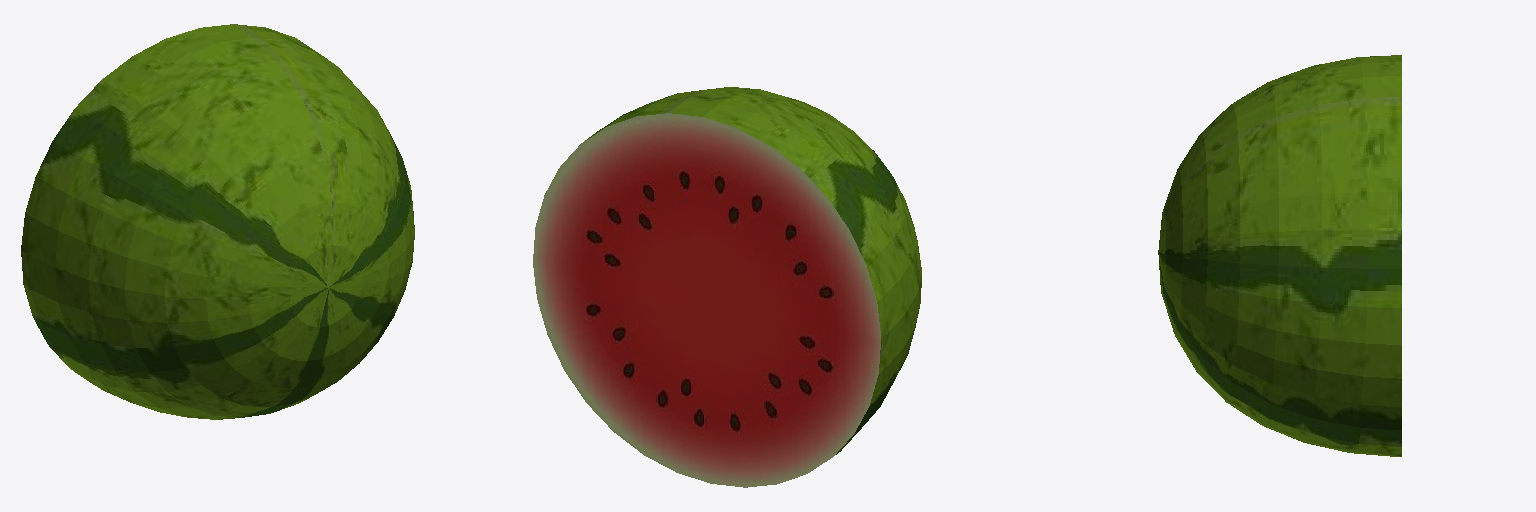
3 views of the same model, side by side, from view 1: azimuth 30°, elevation 25°; view 2: azimuth 150°, elevation 25°; view 3: azimuth 270°, elevation 25° (orthographic).
Visible parts, largest first — view 1: Sphere01; view 2: Sphere01; view 3: Sphere01.
Part boxes in pixels (bbox=[...]): Sphere01: bbox=[21, 24, 414, 419]; Sphere01: bbox=[533, 87, 921, 487]; Sphere01: bbox=[1158, 55, 1401, 456].
Bounding box in the file's own units: 71.51 × 71.54 × 43.24.
Materials: 2 (2 with a texture image).